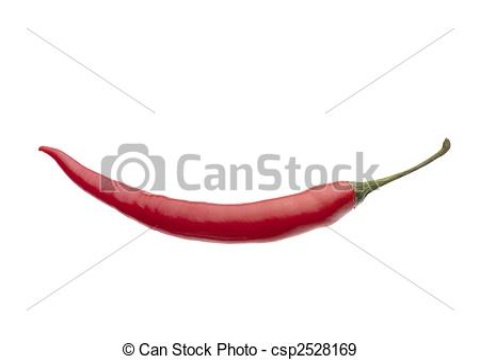Chilli: (28, 118, 457, 253)
